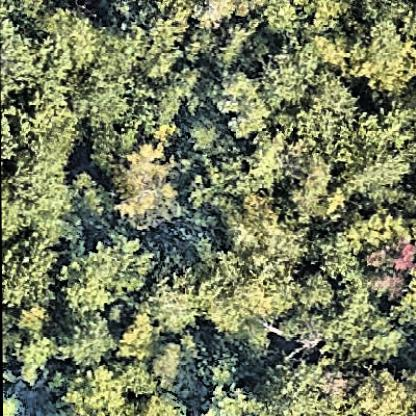tree-top: (194, 245, 297, 328), (52, 234, 159, 312), (346, 0, 413, 102), (334, 112, 410, 192), (108, 142, 179, 226), (253, 350, 345, 414), (321, 300, 403, 366), (1, 158, 71, 230), (70, 50, 134, 120), (1, 230, 62, 302), (32, 10, 102, 71), (294, 74, 356, 140), (212, 69, 272, 136), (60, 363, 135, 415), (12, 306, 55, 394), (49, 308, 115, 365), (217, 189, 278, 250), (136, 14, 189, 82), (0, 14, 39, 102), (261, 48, 321, 102), (349, 362, 413, 412), (207, 21, 269, 71), (362, 238, 415, 296), (193, 336, 251, 388), (304, 232, 363, 282), (286, 152, 328, 220), (144, 280, 202, 329), (70, 165, 112, 225), (148, 338, 190, 393), (251, 140, 294, 186), (194, 390, 264, 416), (292, 270, 336, 308), (183, 115, 225, 154), (136, 390, 188, 416), (258, 0, 296, 32)
